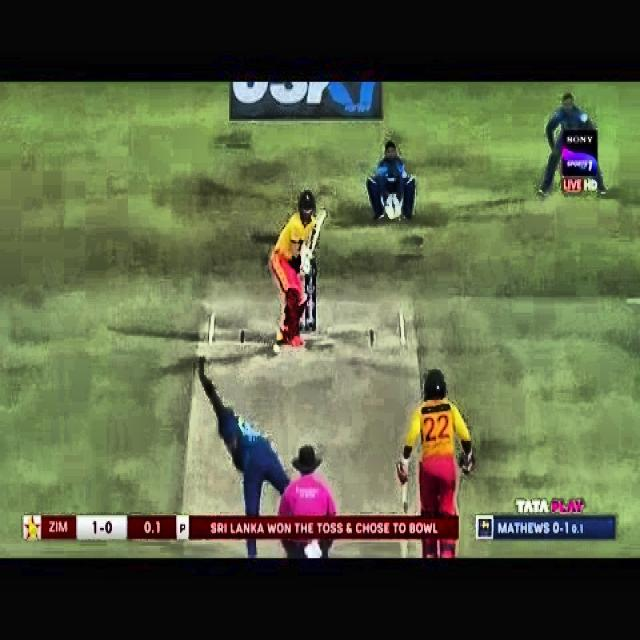Middle-stump: (304, 308, 310, 328)
Right-stump: (312, 266, 316, 330)
